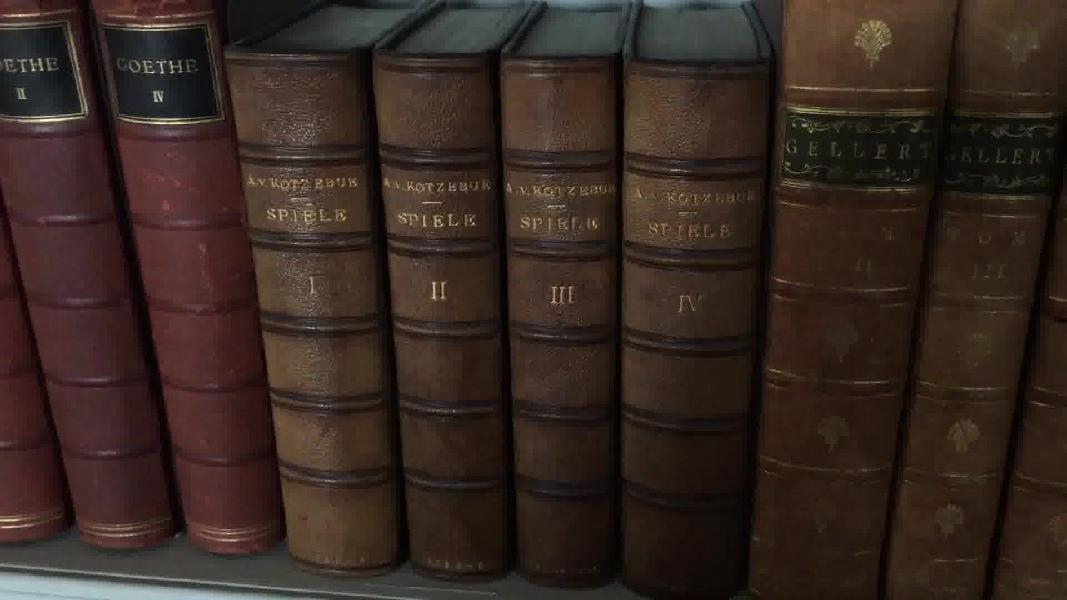Aa6-14_17: (215, 40, 772, 600)
